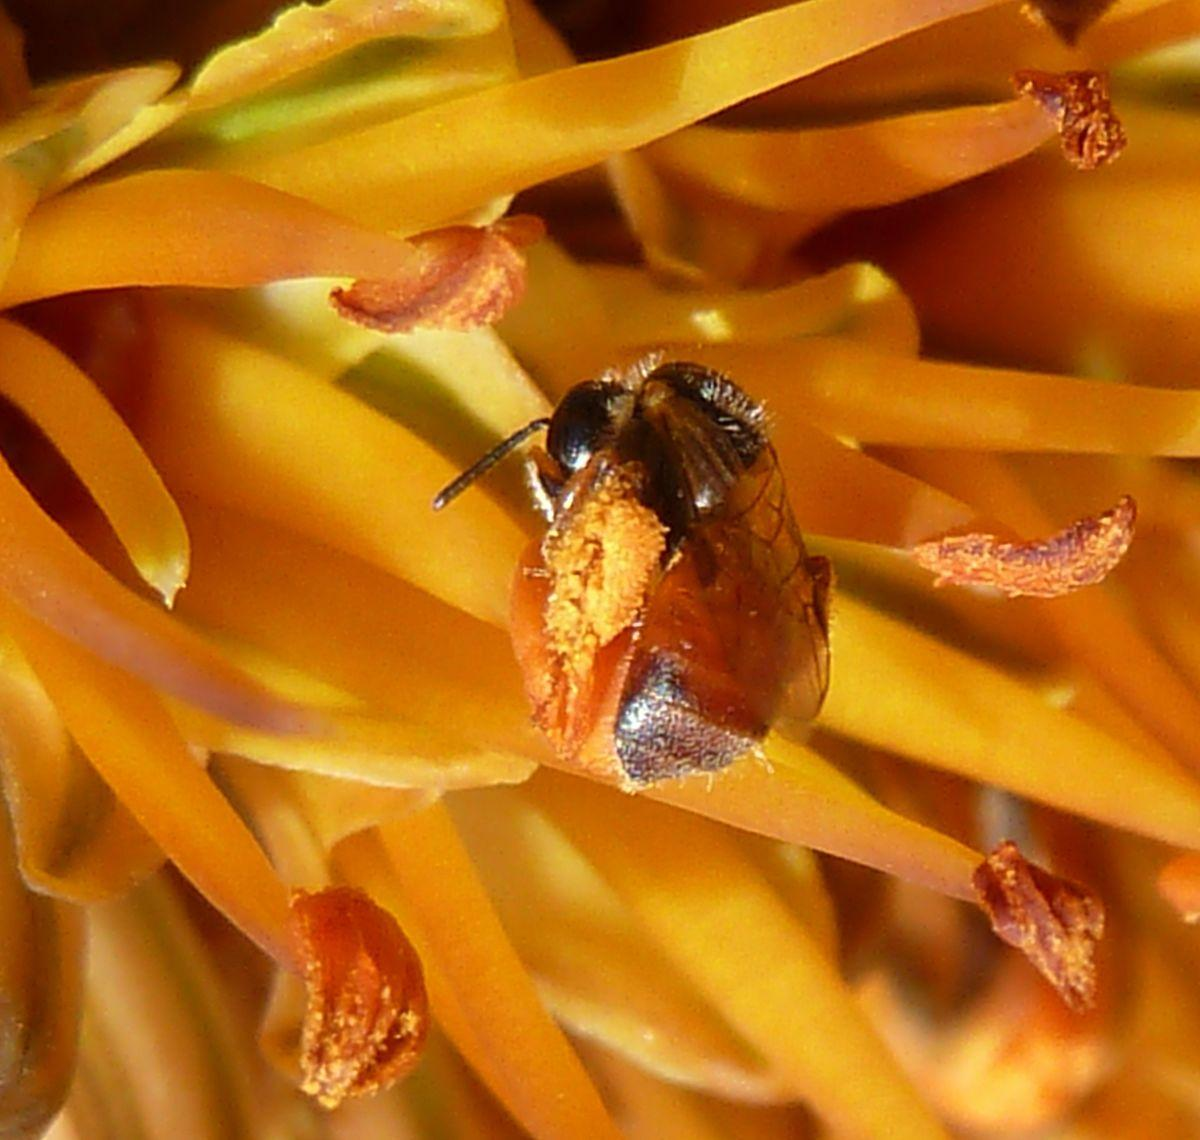Allodapula: (409, 329, 850, 809)
